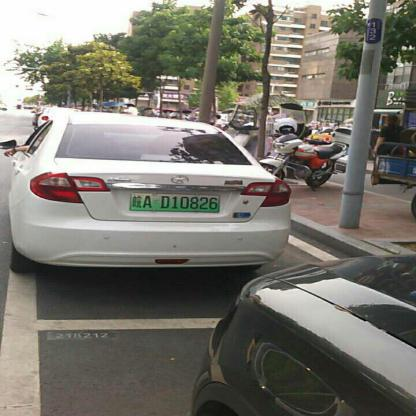lp: (130, 193, 220, 212)
